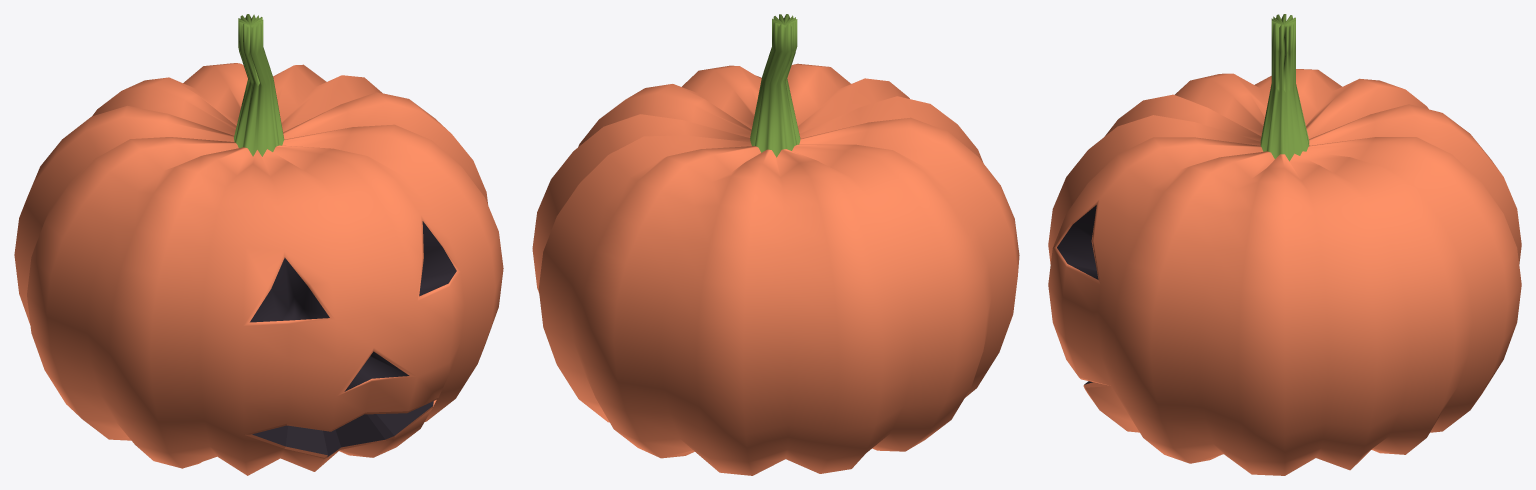
The model's file is pumpkin_d76c80a3.glb.
3 views of the same model, side by side, from view 1: azimuth 30°, elevation 25°; view 2: azimuth 150°, elevation 25°; view 3: azimuth 270°, elevation 25° (orthographic).
Parts seen in each view (by area): view 1: Sphere_0; view 2: Sphere_0; view 3: Sphere_0.
Boxes of the visible parts, x1,y1,x2,y2 form: Sphere_0: [14, 14, 503, 475]; Sphere_0: [532, 14, 1019, 475]; Sphere_0: [1048, 14, 1521, 475].
Size of the model in its own units: 4.87 by 4.34 by 4.77.
Materials: 1 (1 with a texture image).
